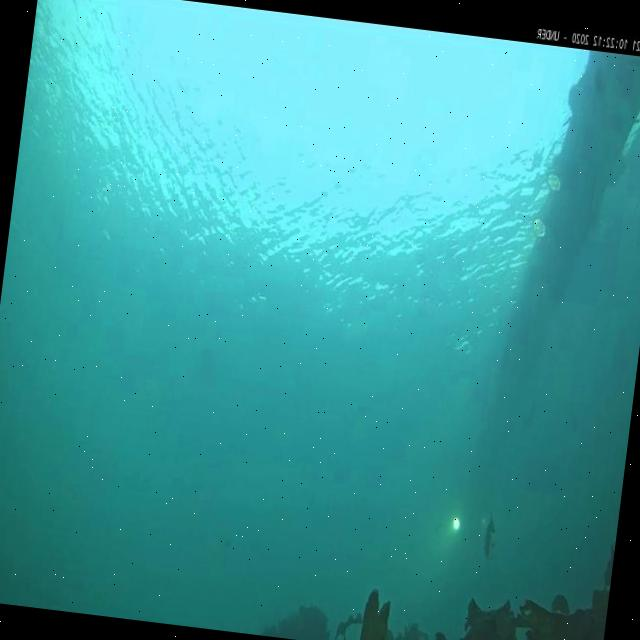fish: (481, 512, 500, 562), (520, 403, 536, 435)
